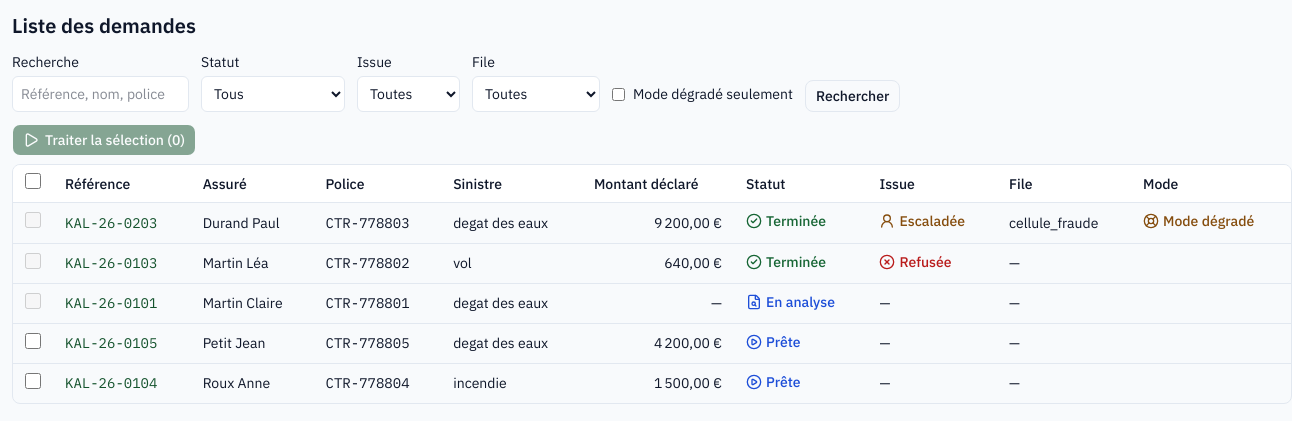
Test: E1 · Liste des demandes › changer de filtre vide la sélection
Step 1. Click the checkbox named "Sélectionner KAL-26-0104" → (33, 381), box [25,373,41,389]
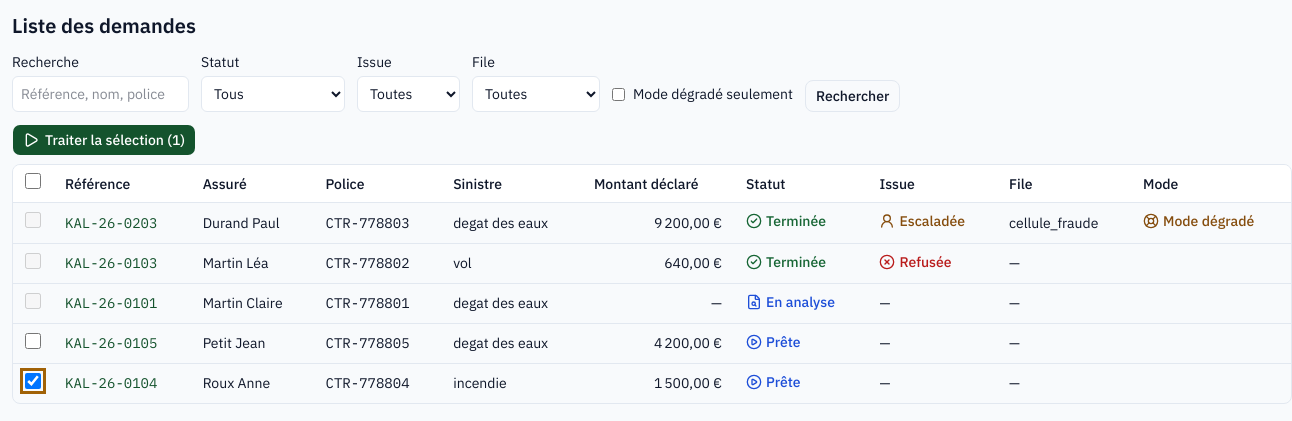
Step 2. Select "Prête" in the dropdown labelled "Statut" → (273, 94), box [201,76,345,112]
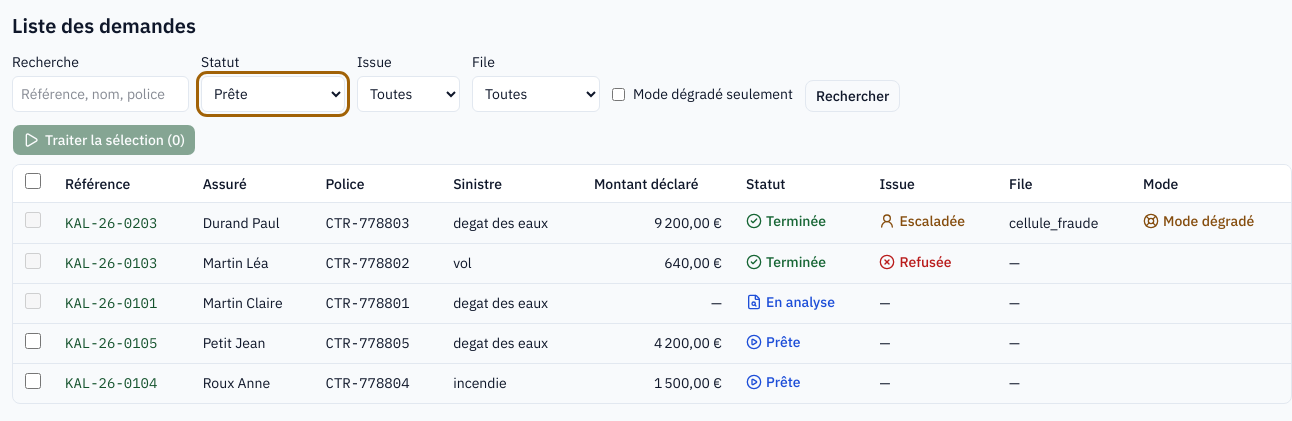
Expected: the button "Traiter la sélection (0)" is disabled, [12,124,196,156]
